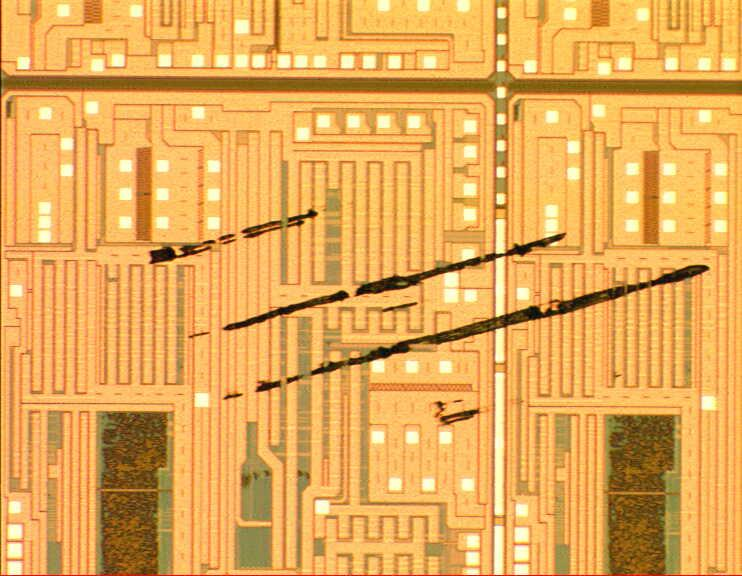SCRATCH: (140, 198, 726, 489)
